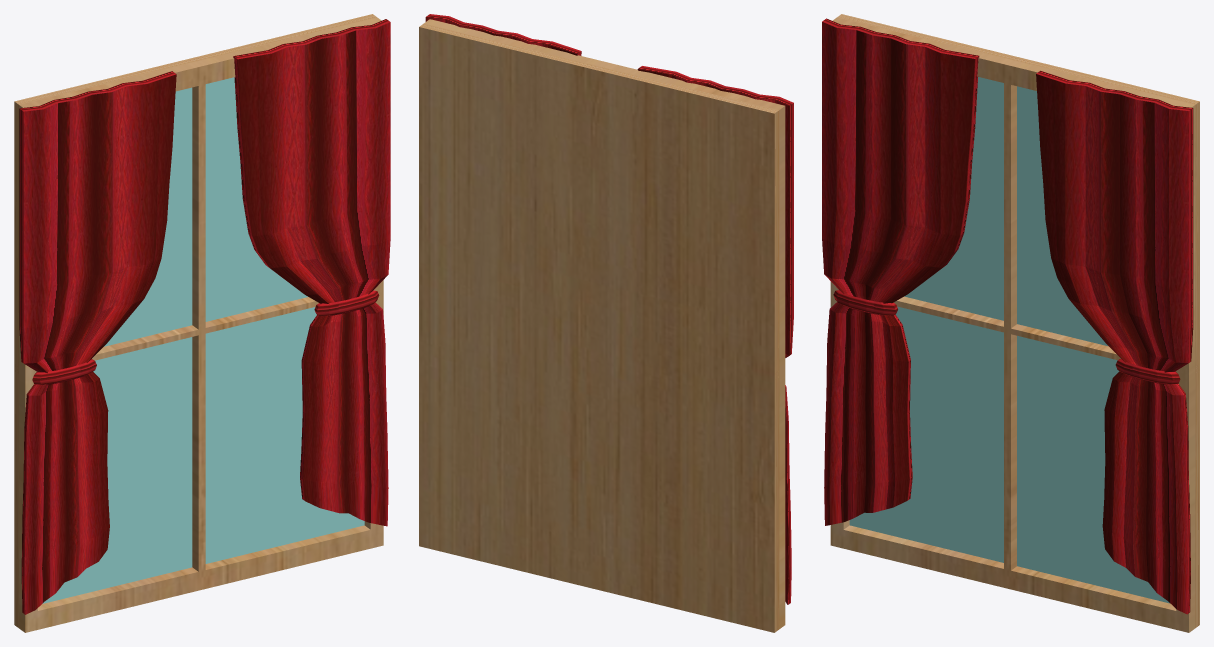
The model's file is Ventana.fbx.
3 renders of one model, left to right at view 1: azimuth 30°, elevation 25°; view 2: azimuth 150°, elevation 25°; view 3: azimuth 330°, elevation 25°, orthographic.
Parts seen in each view (by area): view 1: Cube.001, Cube; view 2: Cube, Cube.001; view 3: Cube.001, Cube.
Part boxes in pixels (x1,y1,x2,y2): Cube.001: (19,19,390,614); Cube: (14,14,383,632); Cube: (419,19,785,632); Cube.001: (425,14,793,604); Cube.001: (822,18,1193,614); Cube: (830,14,1199,632).
Bounding box in the file's own units: 179 × 244 × 14.56.
Materials: 3 (2 with a texture image).
